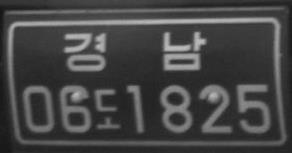0: (21, 82, 56, 134)
1: (124, 83, 150, 135)
2: (198, 82, 234, 135)
5: (235, 82, 272, 135)
6: (57, 83, 93, 134)
8: (158, 83, 193, 134)
경남_D: (62, 30, 207, 73)
도: (93, 86, 123, 130)
